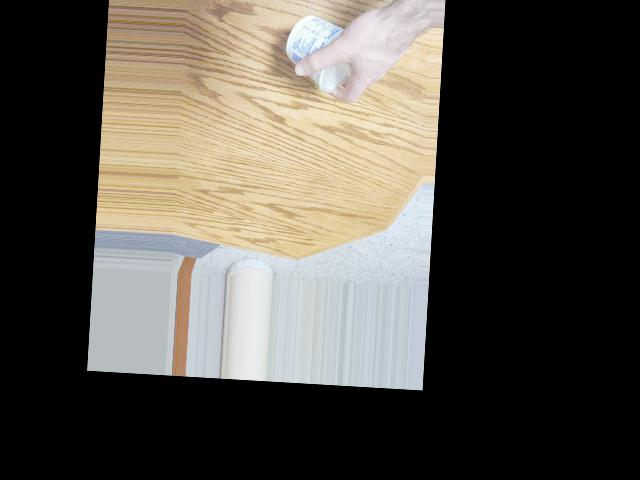cotage: (290, 6, 366, 94)
